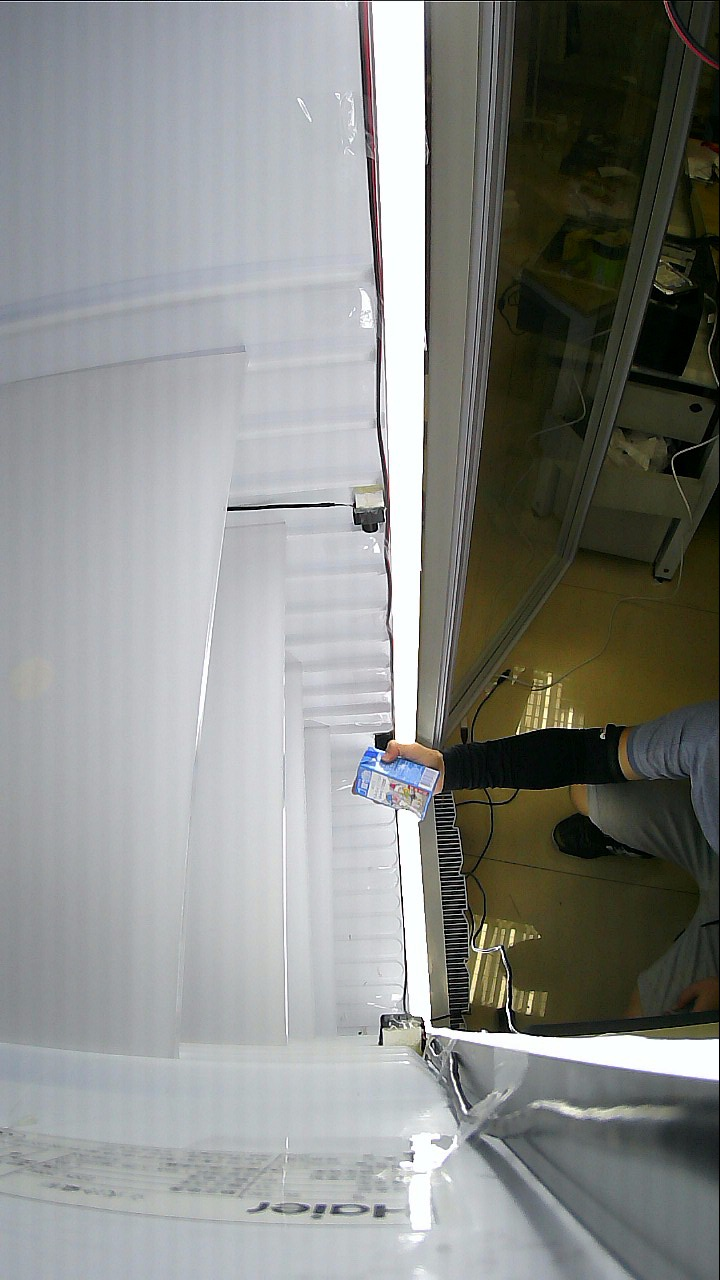VitaSoyOriginal: (356, 744, 496, 819)
